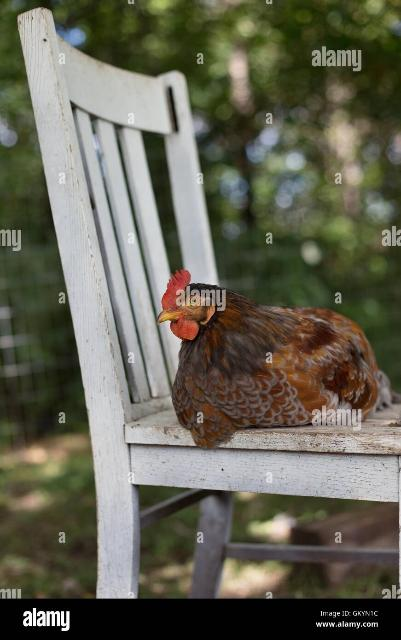Chicken: (155, 267, 395, 455)
